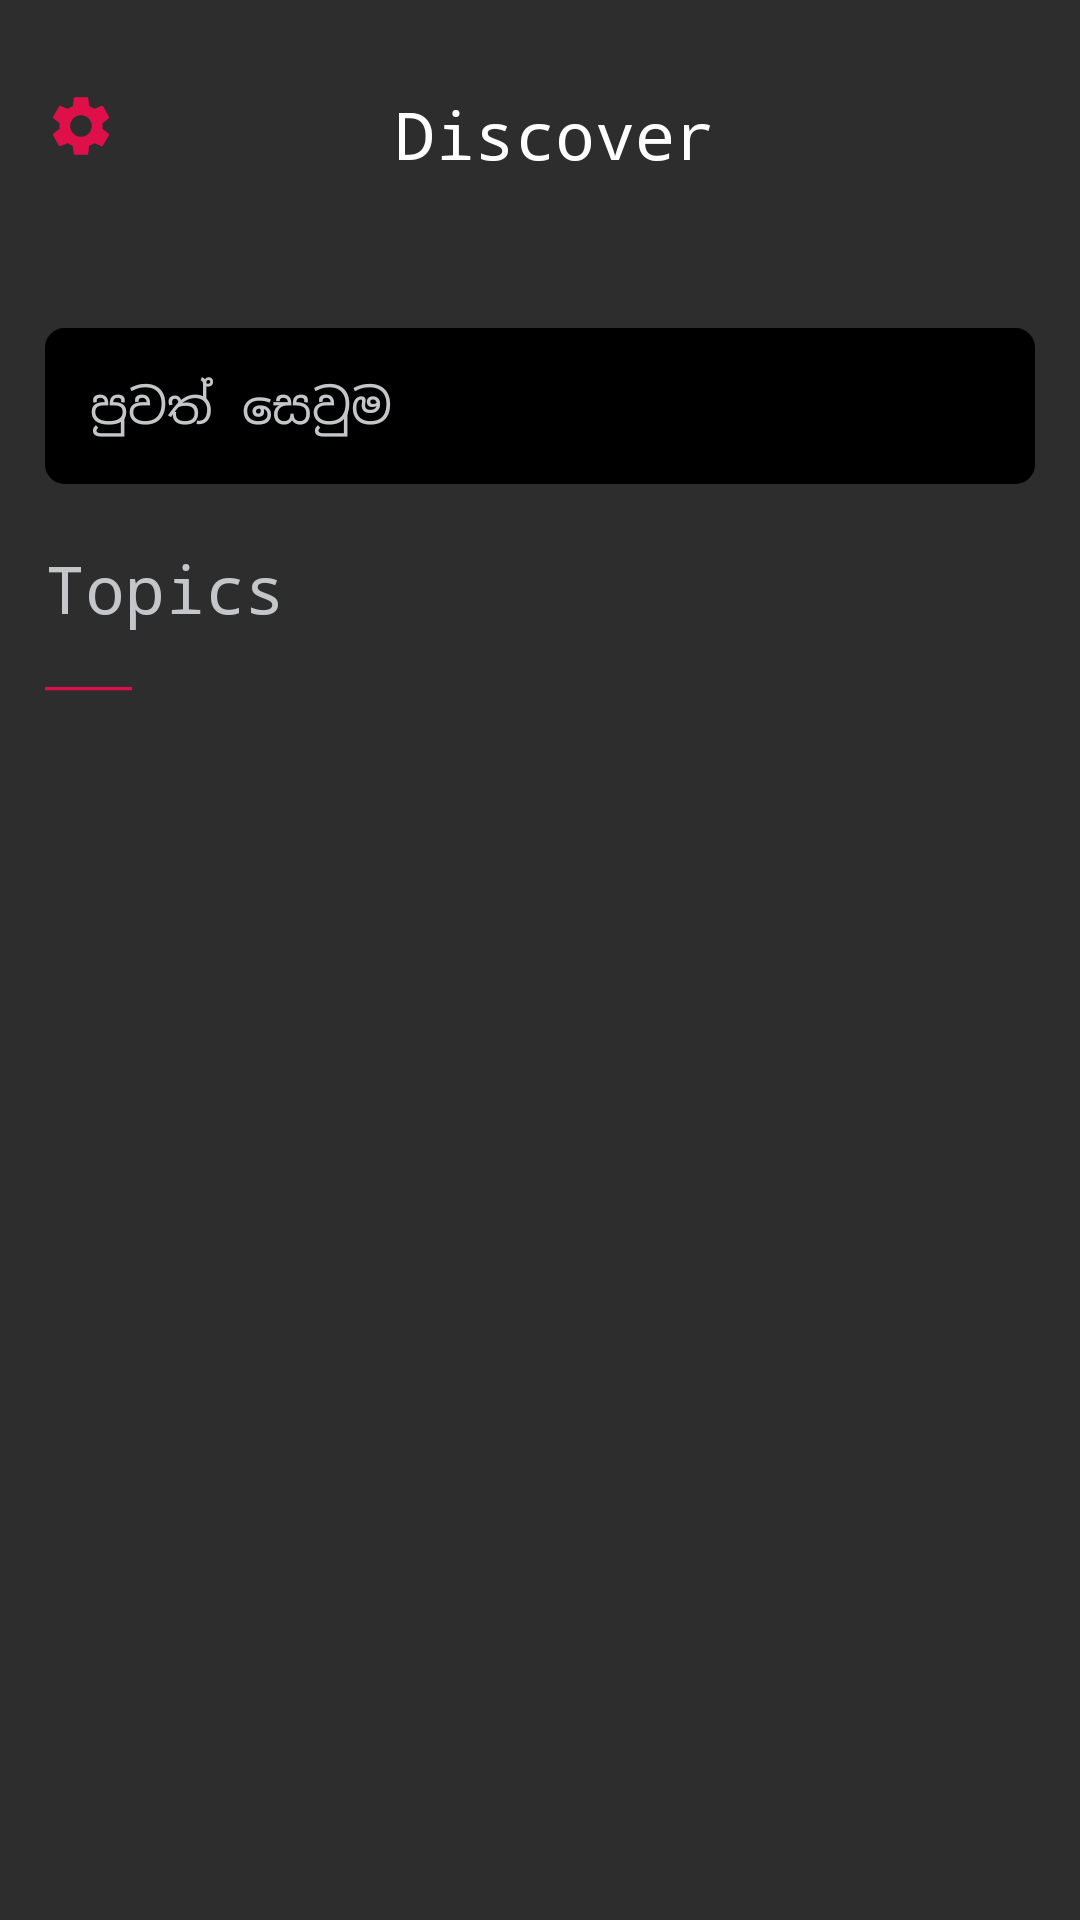

Named icons in this screenshot (1080x1920) and their centers, (x=x, y=y):
settings: (x=81, y=126)
